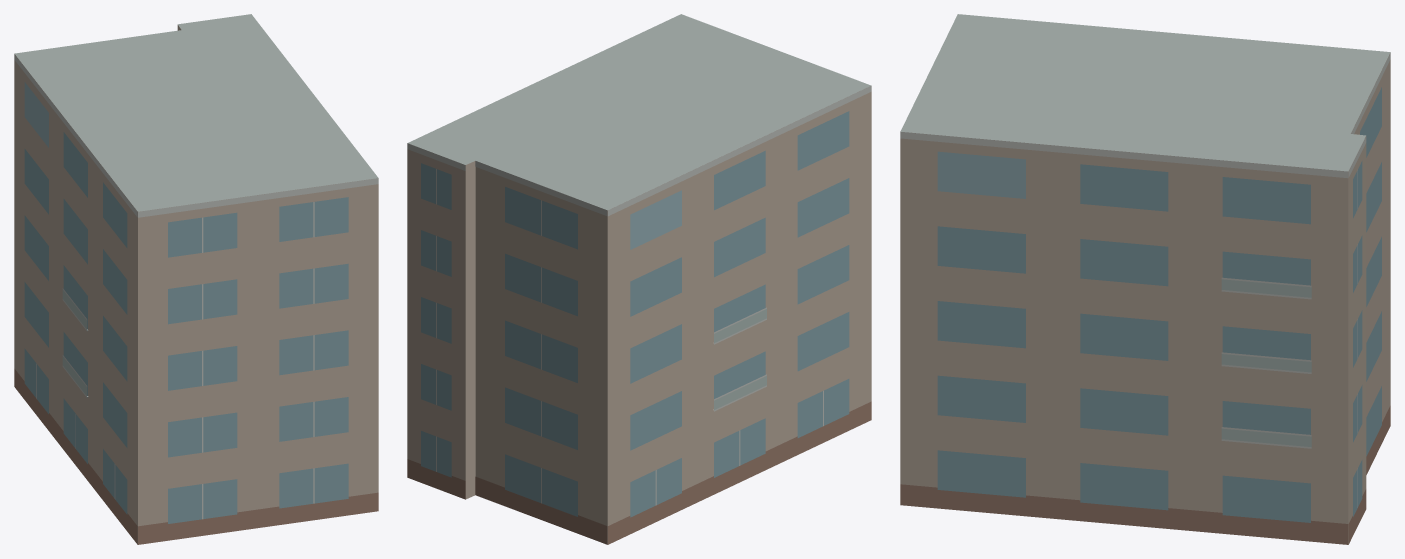
File: survey-upis-32706993.glb
The picture shows the model from 3 angles, left to right: view 1: azimuth 30°, elevation 25°; view 2: azimuth 150°, elevation 25°; view 3: azimuth 270°, elevation 25°; orthographic projection. The views are drawn at different scales.
Visible parts, largest first — view 1: survey-upis-32706993.tmp; view 2: survey-upis-32706993.tmp; view 3: survey-upis-32706993.tmp.
Part boxes in pixels (x1=…): survey-upis-32706993.tmp: x1=14, y1=14, x2=378, y2=544; survey-upis-32706993.tmp: x1=407, y1=14, x2=871, y2=544; survey-upis-32706993.tmp: x1=900, y1=14, x2=1390, y2=544.
Bounding box in the file's own units: 12.22 × 13.5 × 16.08.
